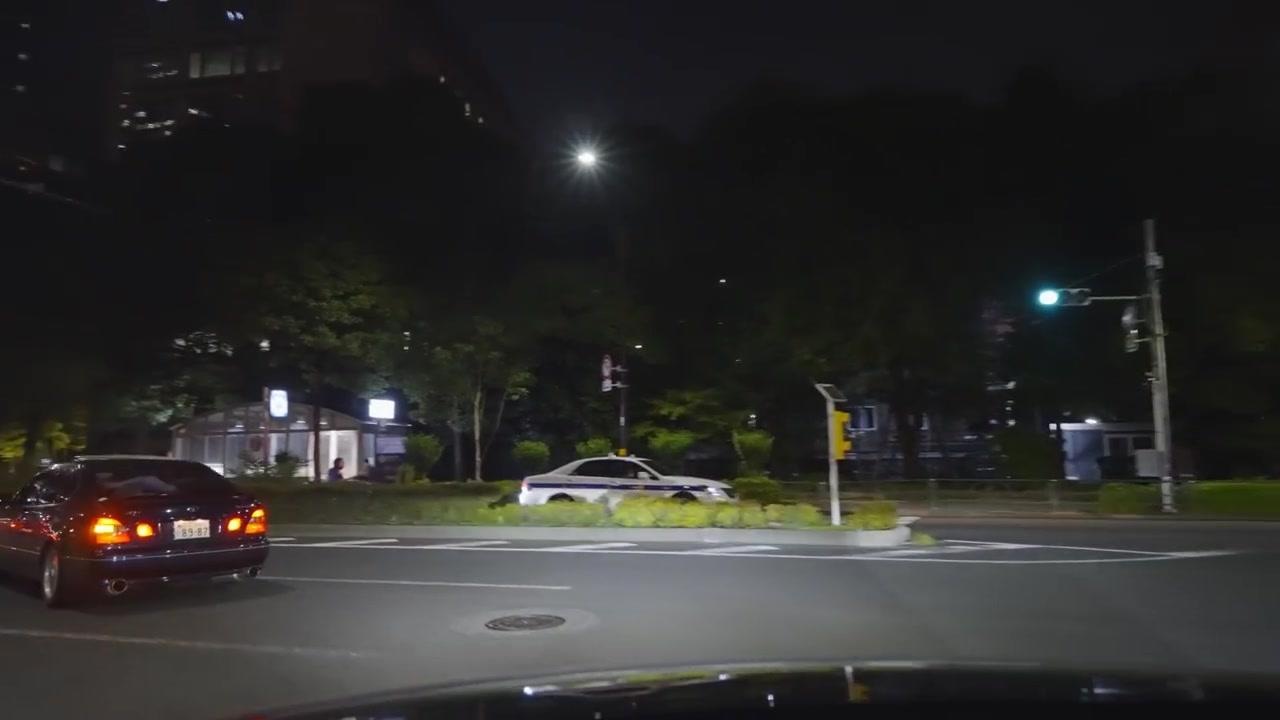car: (1, 455, 270, 609), (518, 456, 738, 506)
person: (326, 457, 346, 481)
traffic light: (830, 411, 854, 459)
